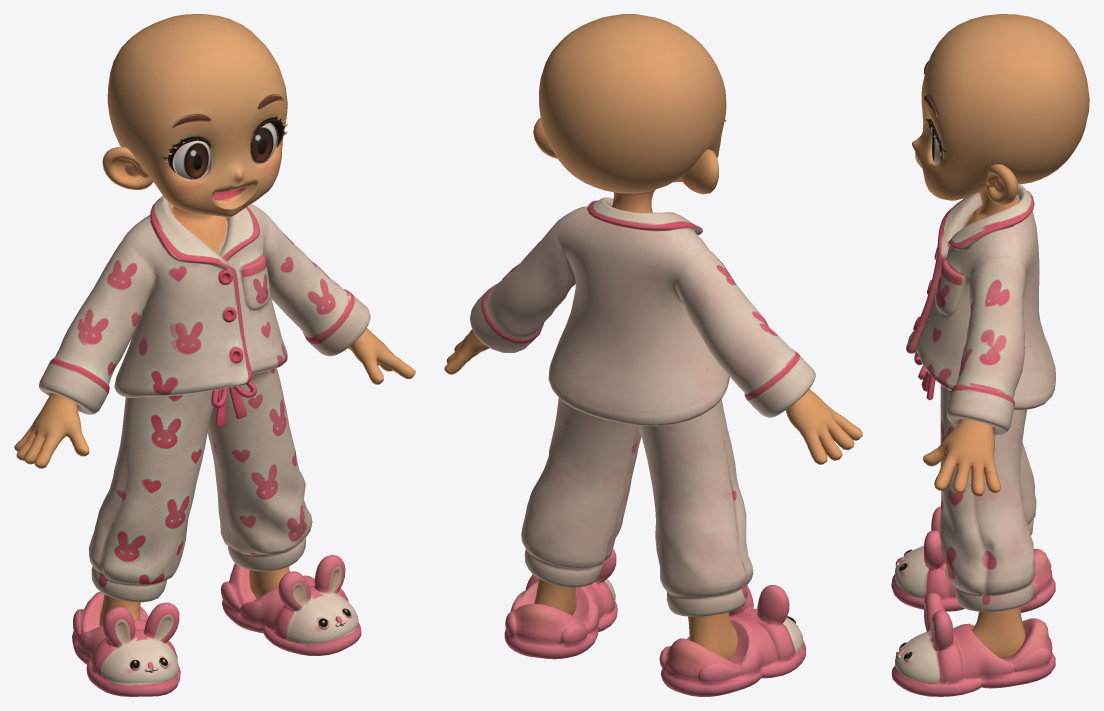
Rendered from body-2.glb.
3 renders of one model, left to right at view 1: azimuth 30°, elevation 25°; view 2: azimuth 150°, elevation 25°; view 3: azimuth 270°, elevation 25°, orthographic. The views are drawn at different scales.
Visible parts, largest first — view 1: f35eeef4_120b_4b03_b8c0_27f1e2e29f38; view 2: f35eeef4_120b_4b03_b8c0_27f1e2e29f38; view 3: f35eeef4_120b_4b03_b8c0_27f1e2e29f38.
Part boxes in pixels (x1,y1,x2,y2): f35eeef4_120b_4b03_b8c0_27f1e2e29f38: [14, 14, 415, 696]; f35eeef4_120b_4b03_b8c0_27f1e2e29f38: [444, 14, 862, 696]; f35eeef4_120b_4b03_b8c0_27f1e2e29f38: [891, 14, 1089, 696].
Size of the model in its own units: 0.6509 by 0.9995 by 0.2915.
1 material, 1 textured.
